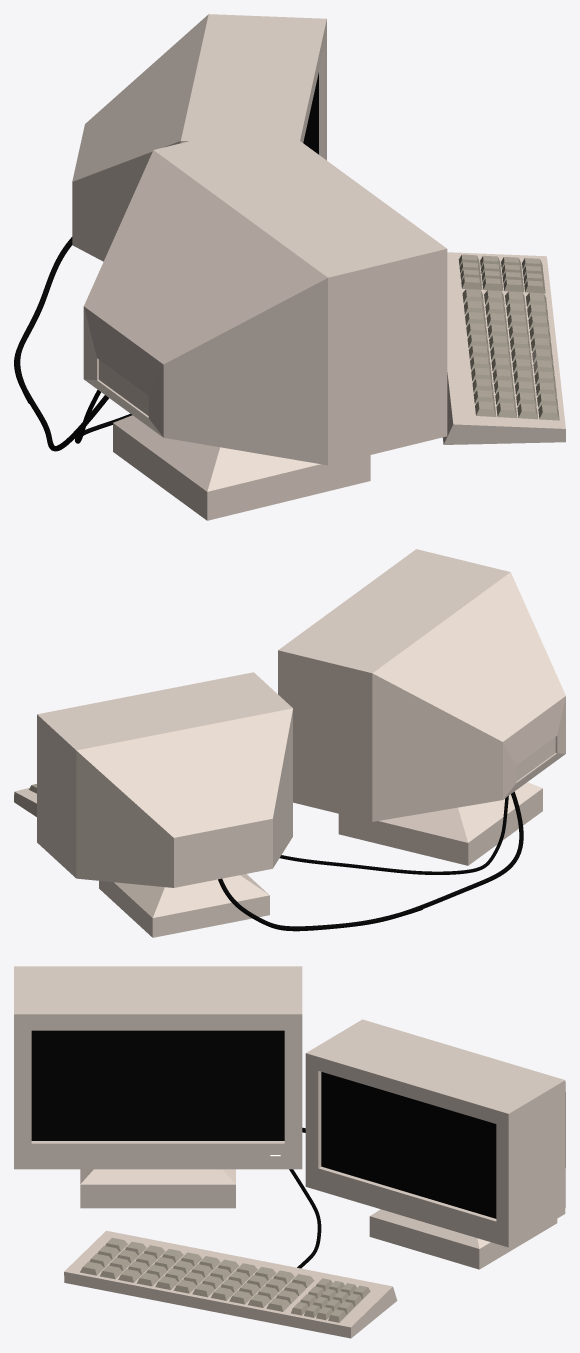
3 renders of one model, top to bottom at view 1: azimuth 30°, elevation 25°; view 2: azimuth 150°, elevation 25°; view 3: azimuth 270°, elevation 25°, orthographic. The views are drawn at different scales.
Visible parts, largest first — view 1: PC-1, PC-2, Keyboard, Coord-1; view 2: PC-1, PC-2, Coord-1, Coord-2, Keyboard; view 3: PC-1, PC-2, Keyboard, Coord-2.
Part boxes in pixels (left/top/right/bottom): PC-1: left=83, top=121, right=447, bottom=520; PC-2: left=72, top=14, right=326, bottom=261; Keyboard: left=442, top=252, right=565, bottom=444; Coord-1: left=14, top=237, right=108, bottom=451; PC-1: left=278, top=549, right=565, bottom=865; PC-2: left=37, top=672, right=292, bottom=937; Coord-1: left=218, top=791, right=523, bottom=931; Coord-2: left=280, top=796, right=508, bottom=874; Keyboard: left=14, top=784, right=36, bottom=816; PC-1: left=14, top=966, right=302, bottom=1208; PC-2: left=305, top=1019, right=565, bottom=1269; Keyboard: left=64, top=1230, right=397, bottom=1338; Coord-2: left=289, top=1169, right=321, bottom=1268.
Size of the model in its own units: 2.32 by 1 by 2.39.
